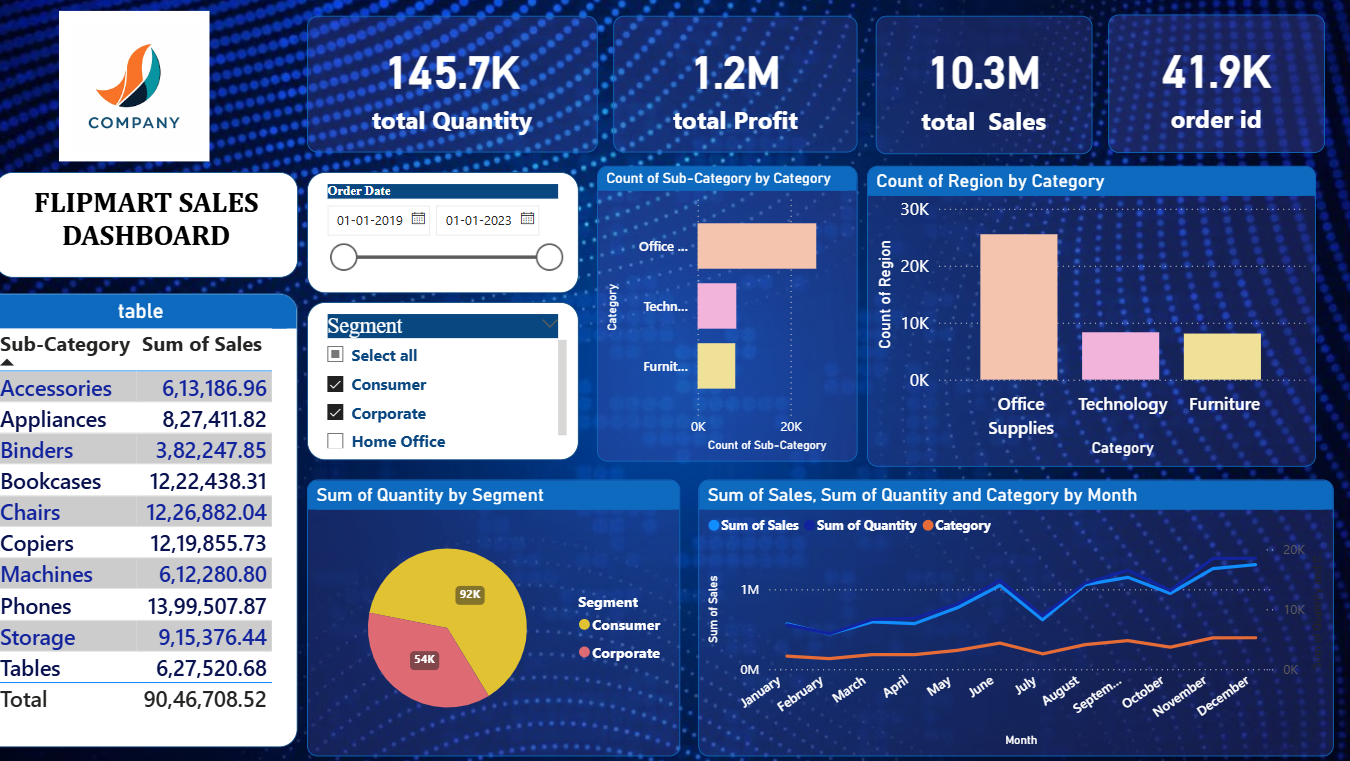

What the dashboard file says about the page in this screenshot:
{"tool":"powerbi","page":{"name":"Page 1","canvas":[1280,720],"ordinal":0},"visuals":[{"type":"card","fields":{"Values":["Sum(Sales.Sales)"]},"box":[831.2,22.5,201.2,128.8],"z":0},{"type":"card","fields":{"Values":["Sum(Sales.Quantity)"]},"box":[302.5,22.5,270,127.5],"z":1000},{"type":"card","fields":{"Values":["Sum(Sales.Profit)"]},"box":[587.5,22.5,227.5,127.5],"z":2000},{"type":"card","fields":{"Values":["CountNonNull(Sales.Order ID)"]},"box":[1047.5,21.2,201.2,128.8],"z":3000},{"type":"clusteredColumnChart","fields":{"Category":["Sales.Category"],"Y":["CountNonNull(Sales.Region)"]},"box":[823.8,161.2,417.5,280],"z":4000},{"type":"pieChart","fields":{"Category":["Sales.Segment"],"Y":["Sum(Sales.Quantity)"]},"box":[302.5,453.8,347.5,257.5],"z":5000},{"type":"lineChart","fields":{"Y":["Sum(Sales.Sales)"],"Category":["Sales.Order Date.Variation.Date Hierarchy.Month"],"Y2":["Sum(Sales.Quantity)","CountNonNull(Sales.Category)"]},"box":[666.2,453.8,591.2,257.5],"z":6000},{"type":"tableEx","title":"table","fields":{"Values":["Sales.Sub-Category","Sum(Sales.Sales)"]},"box":[0,280,293.8,422.5],"z":7000},{"type":"slicer","fields":{"Values":["Sales.Segment"]},"box":[311.1,288.9,253.3,147.8],"z":8000},{"type":"slicer","fields":{"Values":["Sales.Order Date"]},"box":[302.2,176.7,253.3,112.2],"z":9000},{"type":"clusteredBarChart","fields":{"Category":["Sales.Category"],"Y":["CountNonNull(Sales.Sub-Category)"]},"box":[572.5,161.2,242.5,275],"z":10000},{"type":"textbox","box":[11.2,167.5,282.5,98.8],"z":11000},{"type":"image","box":[25,12.5,233.8,150],"z":12000}]}

Visuals, with their boxes in screenshot pixels (x1, y1, x2, y2), scaled from the page's 1280x720 canvas onto the 1350x761 screenshot:
card - Sum(Sales.Sales): locate(877, 24, 1089, 160)
card - Sum(Sales.Quantity): locate(319, 24, 604, 159)
card - Sum(Sales.Profit): locate(620, 24, 860, 159)
card - CountNonNull(Sales.Order ID): locate(1105, 22, 1317, 159)
clusteredColumnChart - Sales.Category x CountNonNull(Sales.Region): locate(869, 170, 1309, 466)
pieChart - Sales.Segment x Sum(Sales.Quantity): locate(319, 480, 686, 752)
lineChart - Sum(Sales.Sales) x Sales.Order Date.Variation.Date Hierarchy.Month: locate(703, 480, 1326, 752)
"table" tableEx: locate(0, 296, 310, 743)
slicer - Sales.Segment: locate(328, 305, 595, 462)
slicer - Sales.Order Date: locate(319, 187, 586, 305)
clusteredBarChart - Sales.Category x CountNonNull(Sales.Sub-Category): locate(604, 170, 860, 461)
textbox: locate(12, 177, 310, 281)
image: locate(26, 13, 273, 172)
